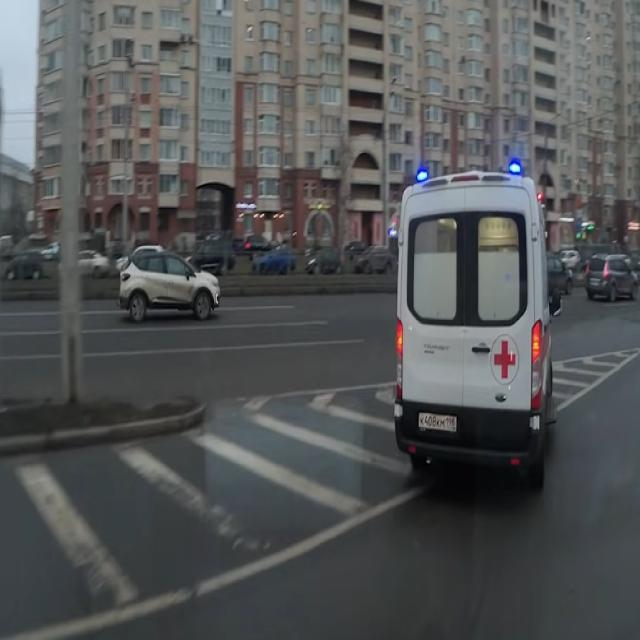ambulance: (394, 152, 555, 493)
non emergency car: (118, 246, 222, 325), (586, 250, 639, 305)
